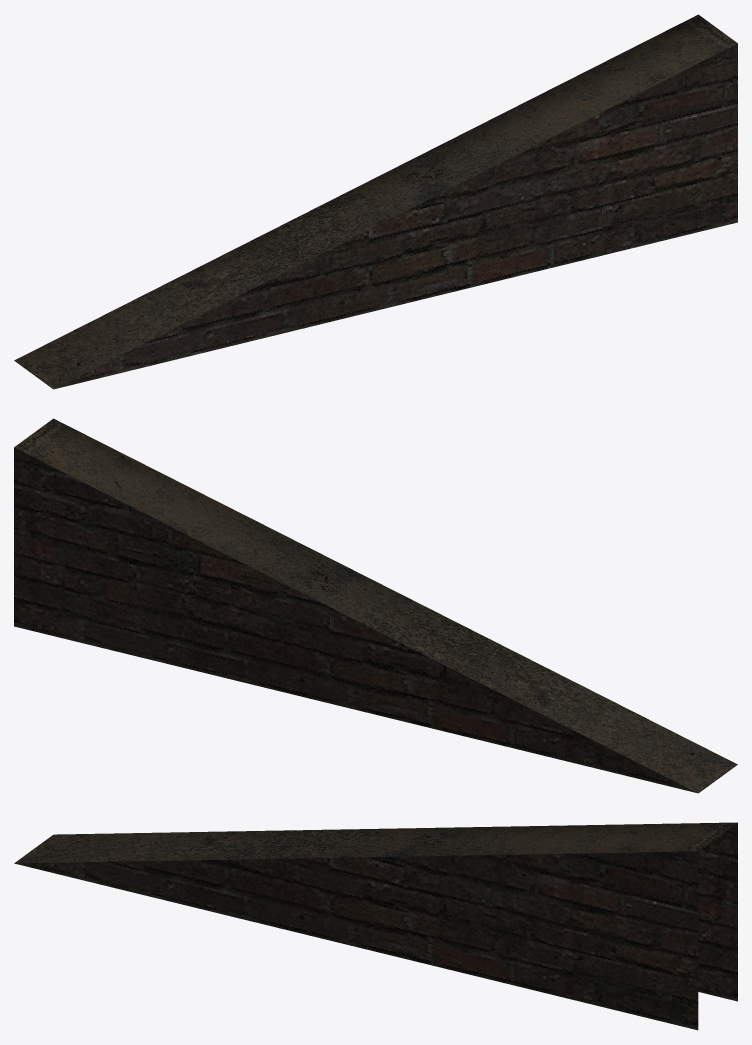
The model's file is wall_top_part_hs_1.glb.
3 renders of one model, top to bottom at view 1: azimuth 30°, elevation 25°; view 2: azimuth 150°, elevation 25°; view 3: azimuth 330°, elevation 25°, orthographic.
Visible parts, largest first — view 1: wall_top_part_hs_1; view 2: wall_top_part_hs_1; view 3: wall_top_part_hs_1.
Boxes of the visible parts, left/top/right/bottom form: wall_top_part_hs_1: left=14, top=14, right=737, bottom=389; wall_top_part_hs_1: left=14, top=418, right=737, bottom=793; wall_top_part_hs_1: left=14, top=822, right=737, bottom=1030.
Bounding box in the file's own units: 4 × 1 × 0.4.
2 materials, 2 textured.
